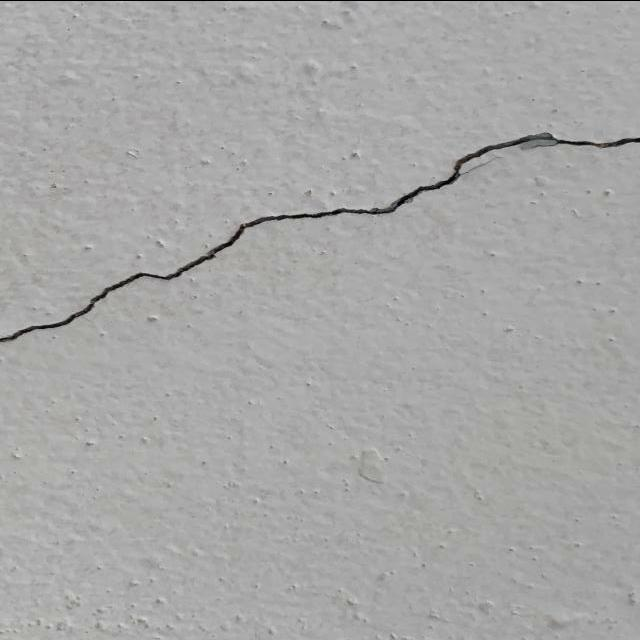SurfaceCrack: (1, 94, 640, 386)
